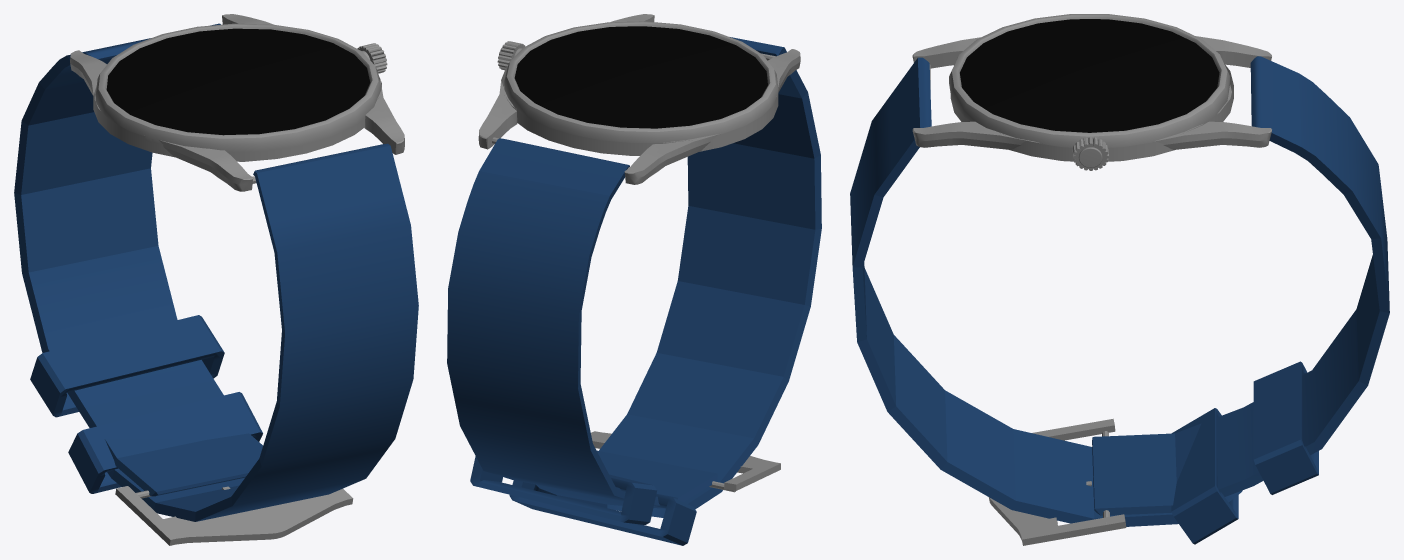
File: Watch_2.fbx
3 renders of one model, left to right at view 1: azimuth 30°, elevation 25°; view 2: azimuth 150°, elevation 25°; view 3: azimuth 270°, elevation 25°, orthographic. The views are drawn at different scales.
Visible parts, largest first — view 1: Watch_band, pCylinder10, pCube4, polySurface3, pCube9, watch_bottom, pCube3; view 2: Watch_band, pCylinder10, watch_bottom, polySurface3, pCube4, pCube9, pCube3; view 3: Watch_band, pCylinder10, watch_bottom, polySurface3, pCube4, pCube9, pCube3, pGear1.
Part boxes in pixels (x1,y1,x2,y2): Watch_band: (14, 23, 418, 521); pCylinder10: (106, 28, 370, 135); pCube4: (30, 315, 224, 417); polySurface3: (95, 23, 381, 152); pCube9: (68, 392, 262, 493); watch_bottom: (70, 14, 404, 191); pCube3: (115, 486, 353, 545); Watch_band: (447, 37, 821, 517); pCylinder10: (514, 26, 767, 128); watch_bottom: (478, 14, 800, 184); polySurface3: (504, 21, 778, 142); pCube4: (470, 456, 656, 524); pCube9: (509, 480, 696, 545); pCube3: (591, 431, 780, 490); Watch_band: (850, 56, 1389, 526); pCylinder10: (960, 19, 1219, 132); watch_bottom: (912, 36, 1271, 161); polySurface3: (949, 14, 1229, 147); pCube4: (1253, 361, 1318, 494); pCube9: (1171, 408, 1238, 544); pCube3: (988, 418, 1126, 545); pGear1: (1072, 137, 1108, 170).
Size of the model in its own units: 4.24 by 6.45 by 7.16.
